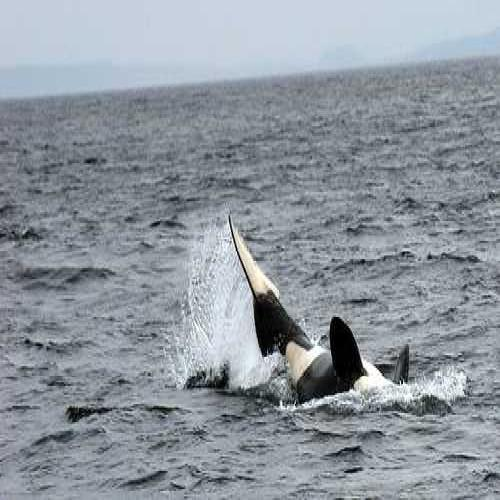killer_whale-endangered: (214, 186, 440, 428)
